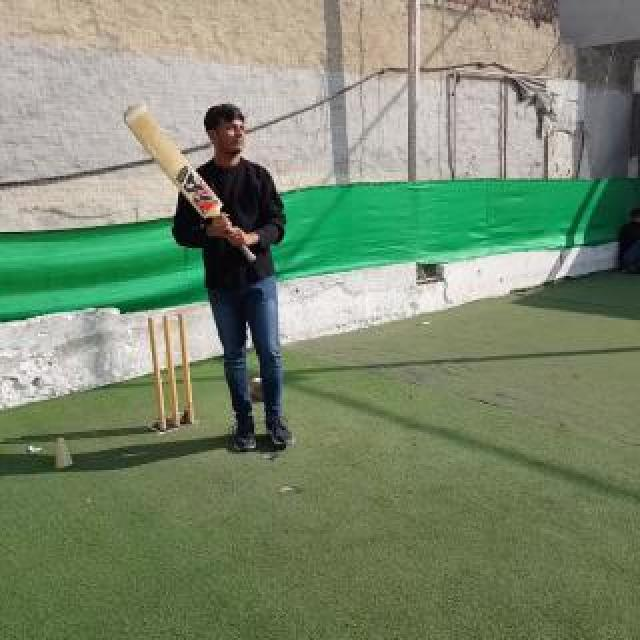bat: (124, 104, 258, 262)
